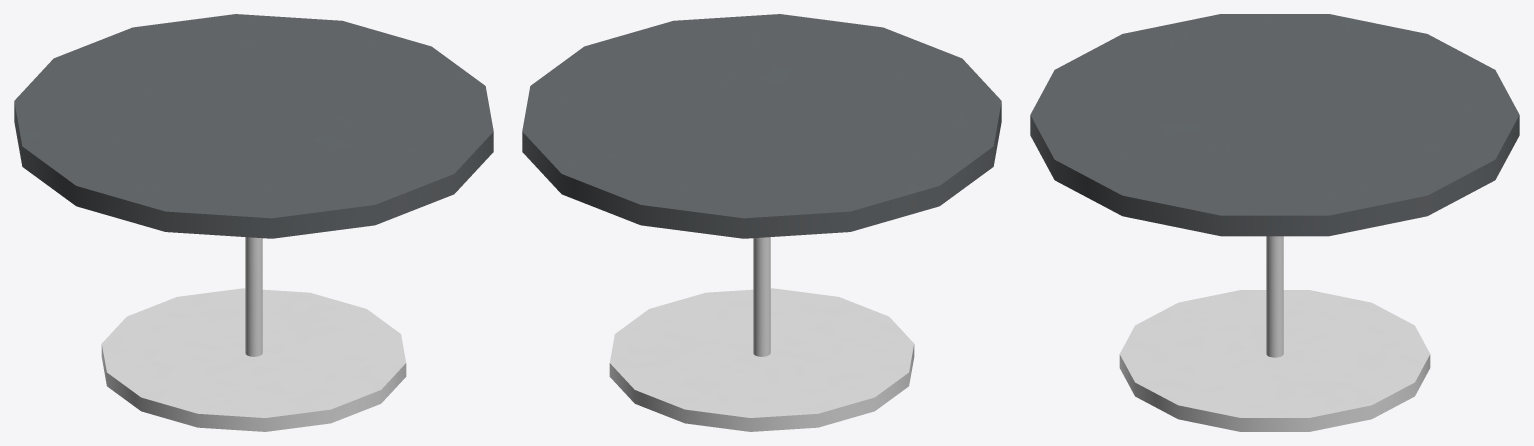
The model's file is Table_01_02.fbx.
3 renders of one model, left to right at view 1: azimuth 30°, elevation 25°; view 2: azimuth 150°, elevation 25°; view 3: azimuth 270°, elevation 25°, orthographic.
Parts seen in each view (by area): view 1: Table_01_02; view 2: Table_01_02; view 3: Table_01_02.
Part boxes in pixels (<box>): Table_01_02: <box>14,14,493,431</box>; Table_01_02: <box>522,14,1001,431</box>; Table_01_02: <box>1030,14,1519,431</box>.
Bounding box in the file's own units: 1.36 × 0.7993 × 1.4.
